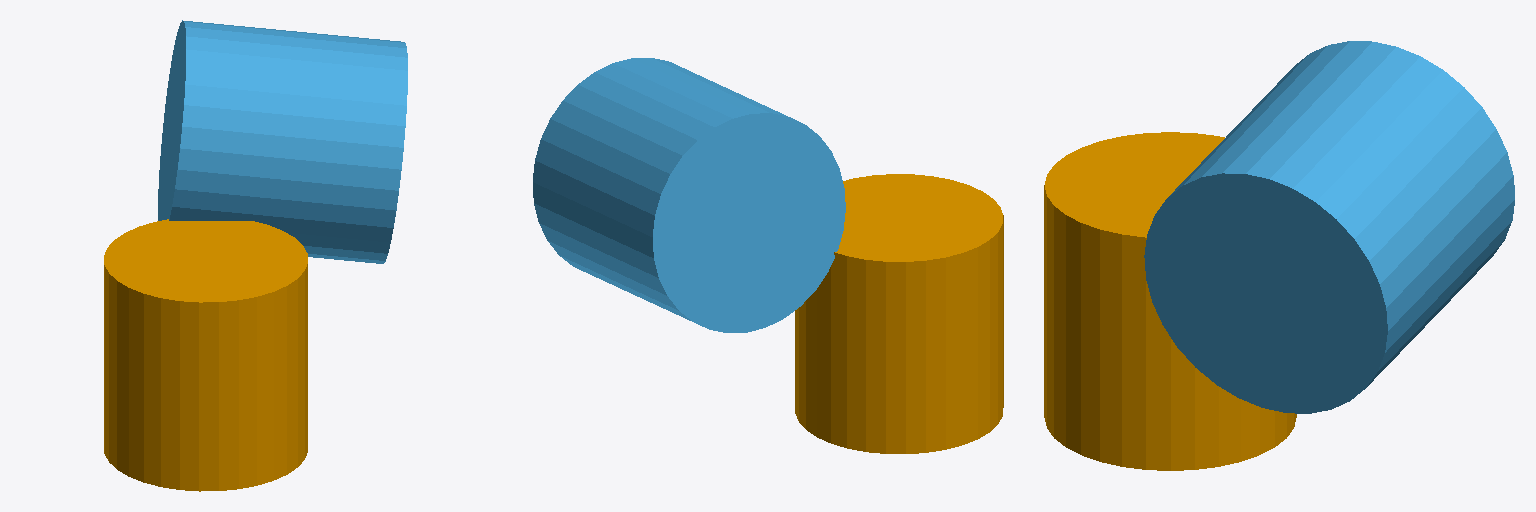
The robot description file, URDF, robot "pepe":
<?xml version="1.0"?><robot name="pepe">
	<link name="0">
		<visual>
			<geometry>
				<cylinder length="1.2743599809402881" radius="0.6262731162305811"/>
			</geometry>
		</visual>
		<collision>
			<geometry>
				<cylinder length="1.2743599809402881" radius="0.6262731162305811"/>
			</geometry>
		</collision>
		<inertial>
			<mass value="1.570252653886503"/>
			<inertia ixx="0.03" iyy="0.03" izz="0.03" ixy="0" ixz="0" iyx="0"/>
		</inertial>
	</link>
	<link name="11">
		<visual>
			<geometry>
				<cylinder length="1.3659893883272214" radius="0.6836311533579179"/>
			</geometry>
		</visual>
		<collision>
			<geometry>
				<cylinder length="1.3659893883272214" radius="0.6836311533579179"/>
			</geometry>
		</collision>
		<inertial>
			<mass value="2.0055841520331796"/>
			<inertia ixx="0.03" iyy="0.03" izz="0.03" ixy="0" ixz="0" iyx="0"/>
		</inertial>
	</link>
	<joint name="11_to_0" type="revolute">
		<parent link="0"/>
		<child link="11"/>
		<axis xyz="0 0 1"/>
		<limit effort="1" upper="-3.1415" lower="3.1415" velocity="1"/>
		<origin rpy="11.255272659534752 4.214253082123003 3.996791117366848" xyz="0.9999 0.792186178061458 0.8729017732676769"/>
	</joint>
</robot>

--- Render facts (derived) ---
Views: 3 orthographic renders of the robot side by side, from view 1: azimuth 30°, elevation 25°; view 2: azimuth 150°, elevation 25°; view 3: azimuth 270°, elevation 25°.
Model pepe with 2 links and 1 joints (1 revolute), rooted at 0, posed all joints at 0.
Visible links, largest first — view 1: 0, 11; view 2: 11, 0; view 3: 11, 0.
Boxes of the visible links, x1,y1,x2,y2 form: 0: (104,219,307,491); 11: (158,20,407,263); 11: (533,58,845,332); 0: (795,174,1003,453); 11: (1144,41,1514,413); 0: (1044,132,1296,470).
Bounding box of the posed robot: 2.55 × 2.34 × 2.27 m (x, y, z).
Geometry: primitives only (box / cylinder / sphere), no mesh files.
